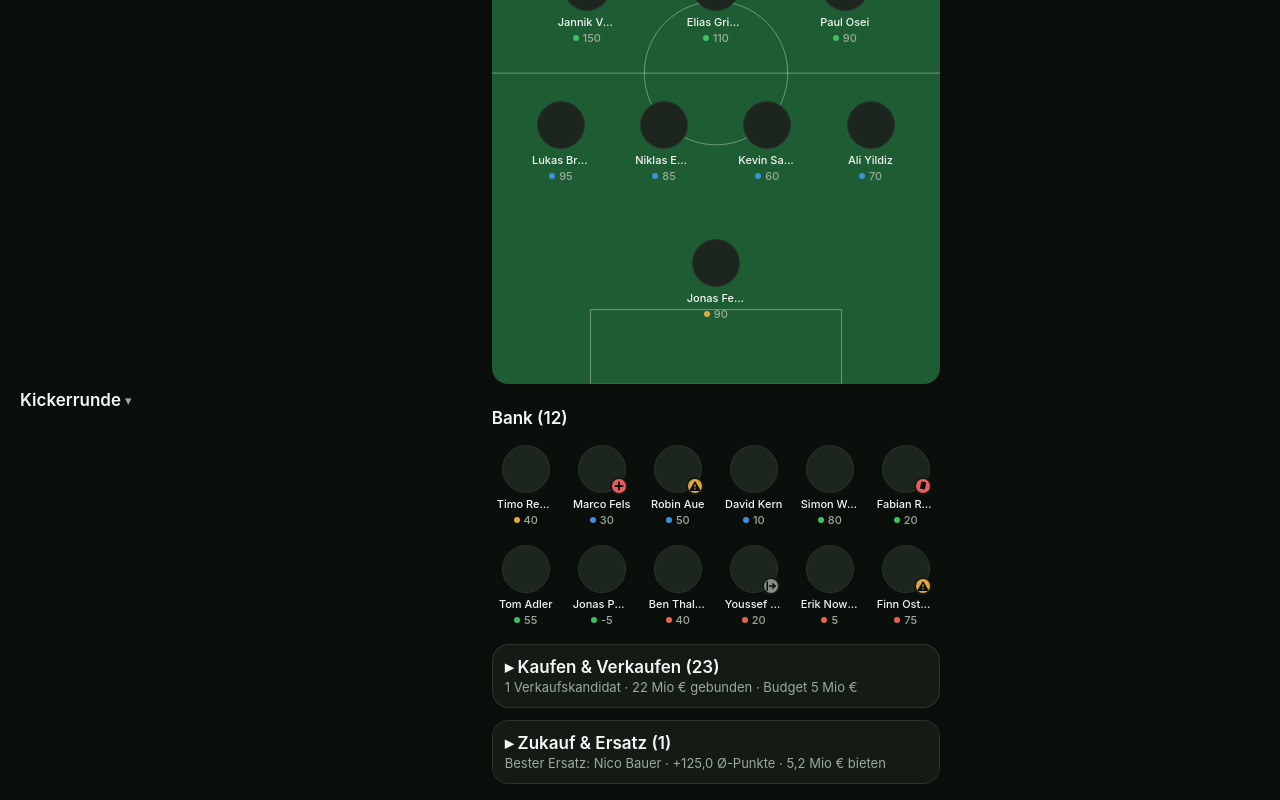
LineupScreen › empfiehlt einen Zukauf vom Markt und öffnet dafür den Gebots-Dialog
(page scrolled)
Expected: the text "Bester Ersatz: Nico Bauer" is shown, [505,755,886,771]
Step 1. Click the button "Zukauf" → [586, 743], box [493,721,939,783]
(page scrolled)
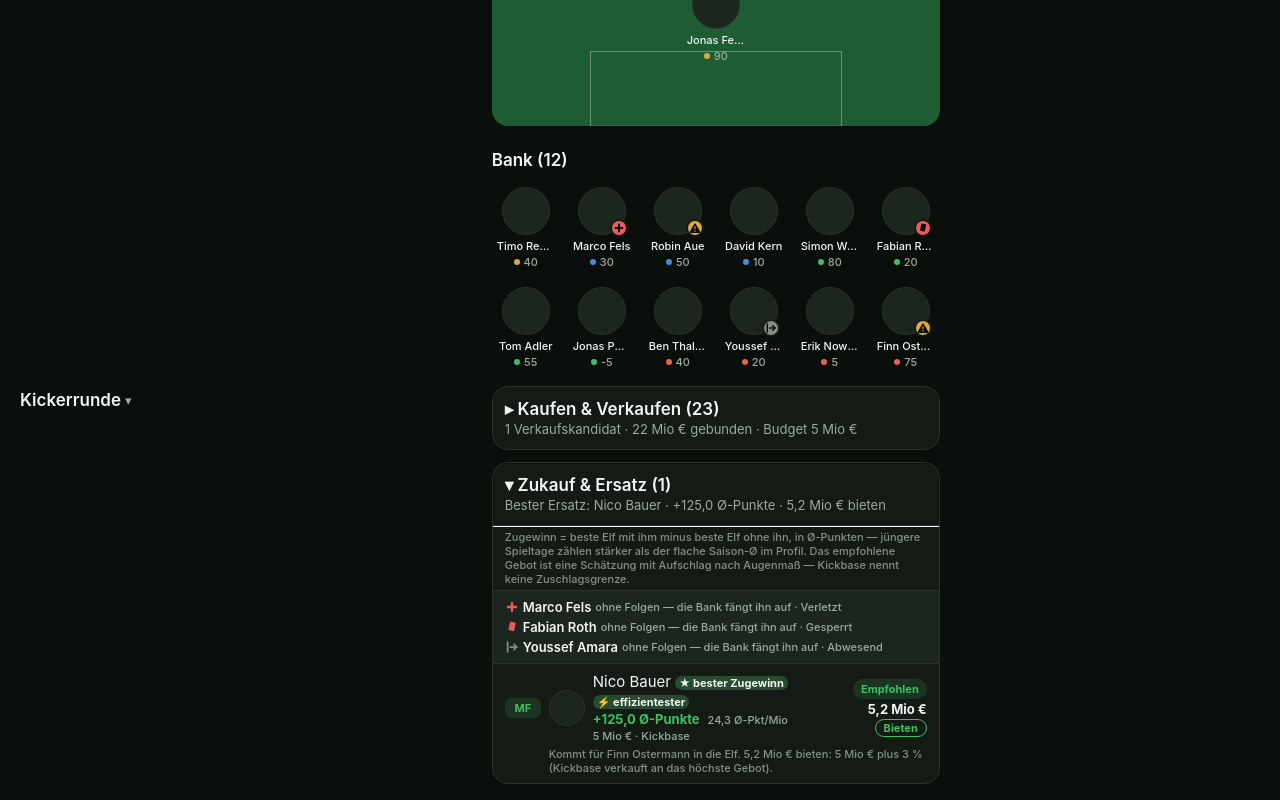
Step 2. Click the button with aria-label "Gebot für Nico Bauer abgeben" → [901, 728], box [875,719,927,737]
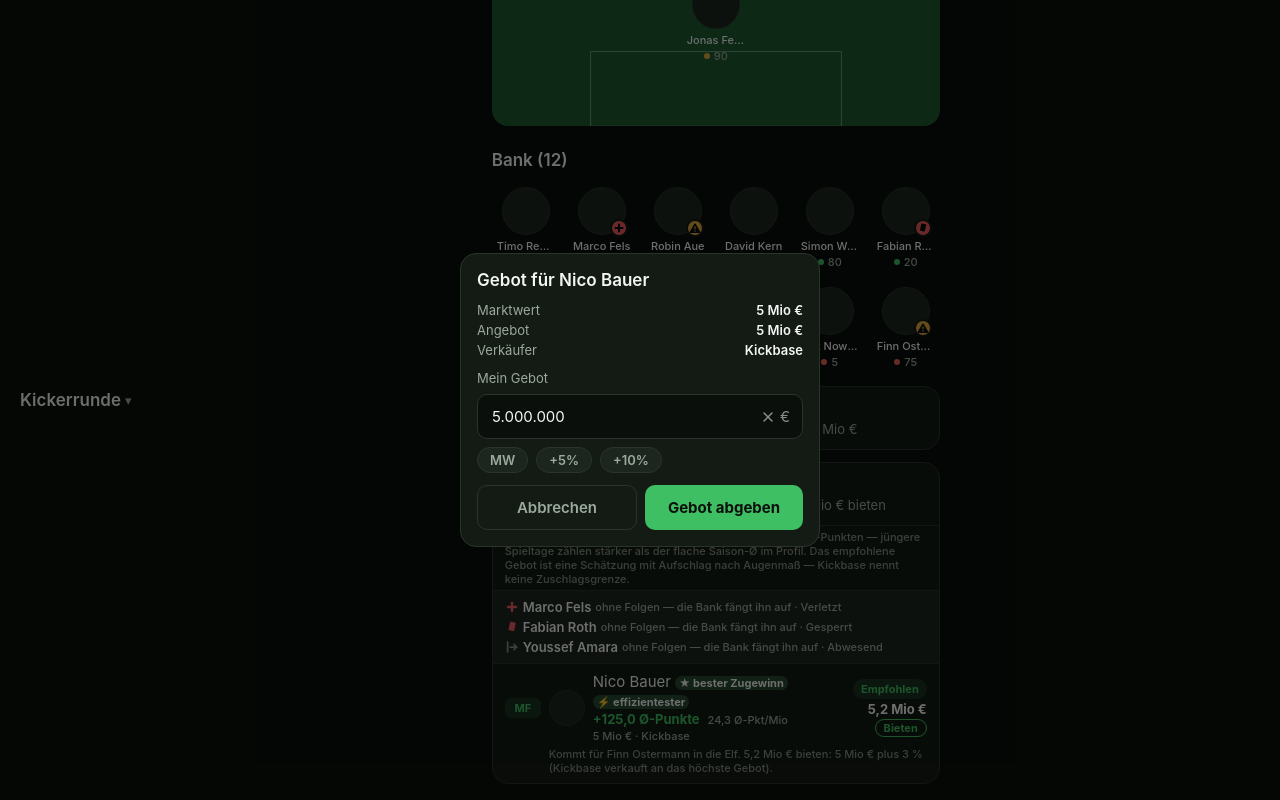
Now the dialog "Gebot für Nico Bauer" is shown
